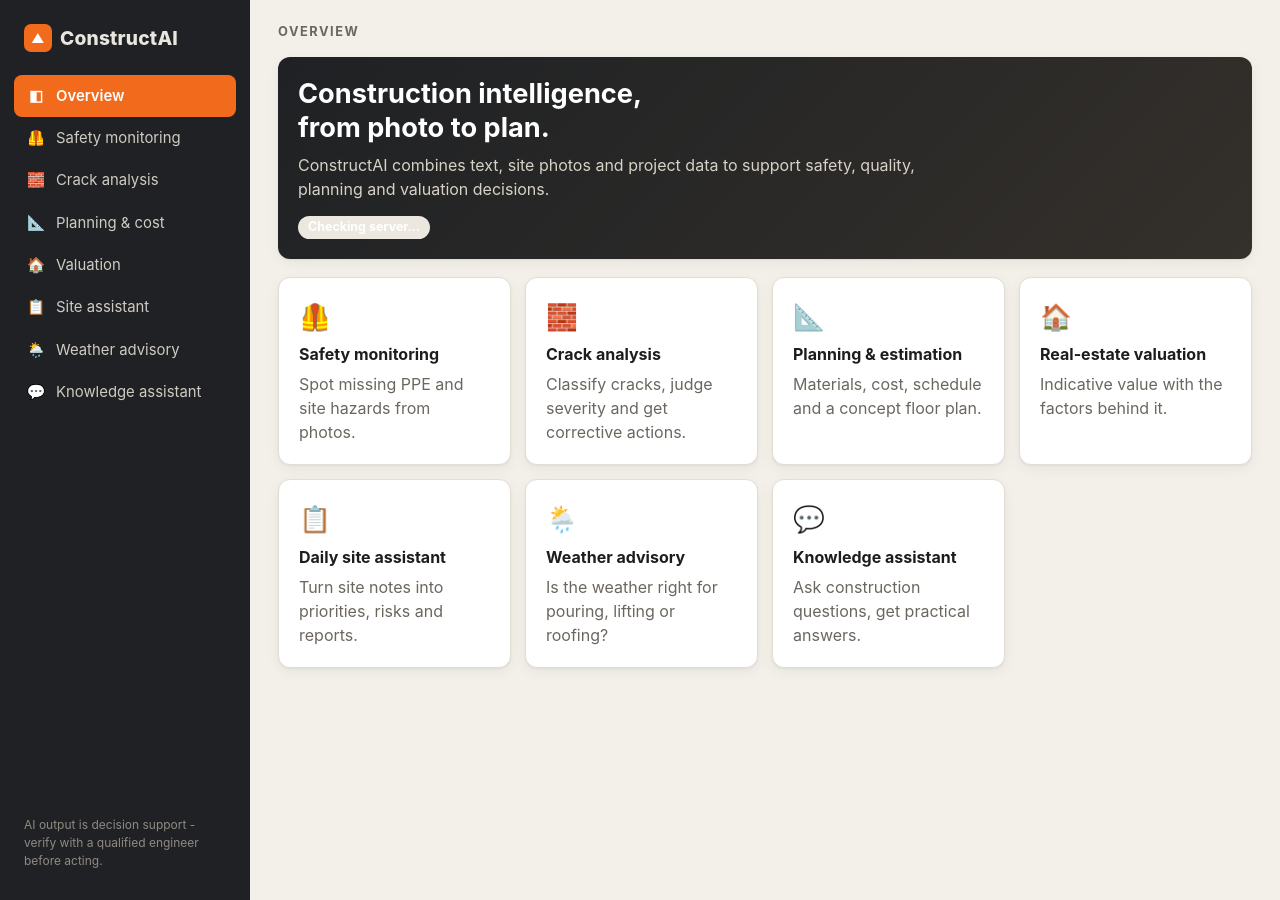
Test: crack module › requires a photo
Click the button "🧱 Crack analysis": x=125, y=181 top-left (14, 159), bottom-right (236, 202)
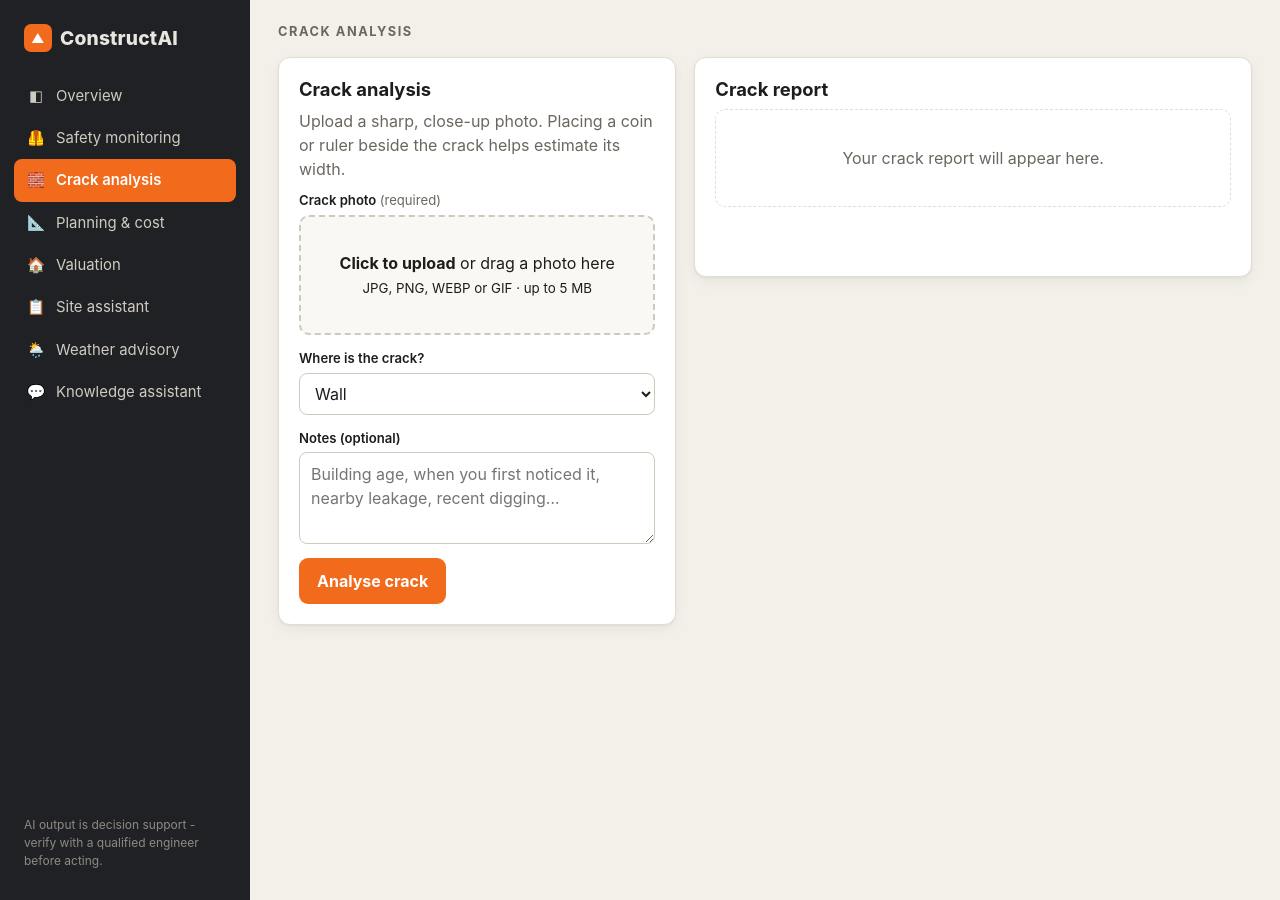
Click the button "Analyse crack": x=373, y=581 top-left (299, 558), bottom-right (446, 604)
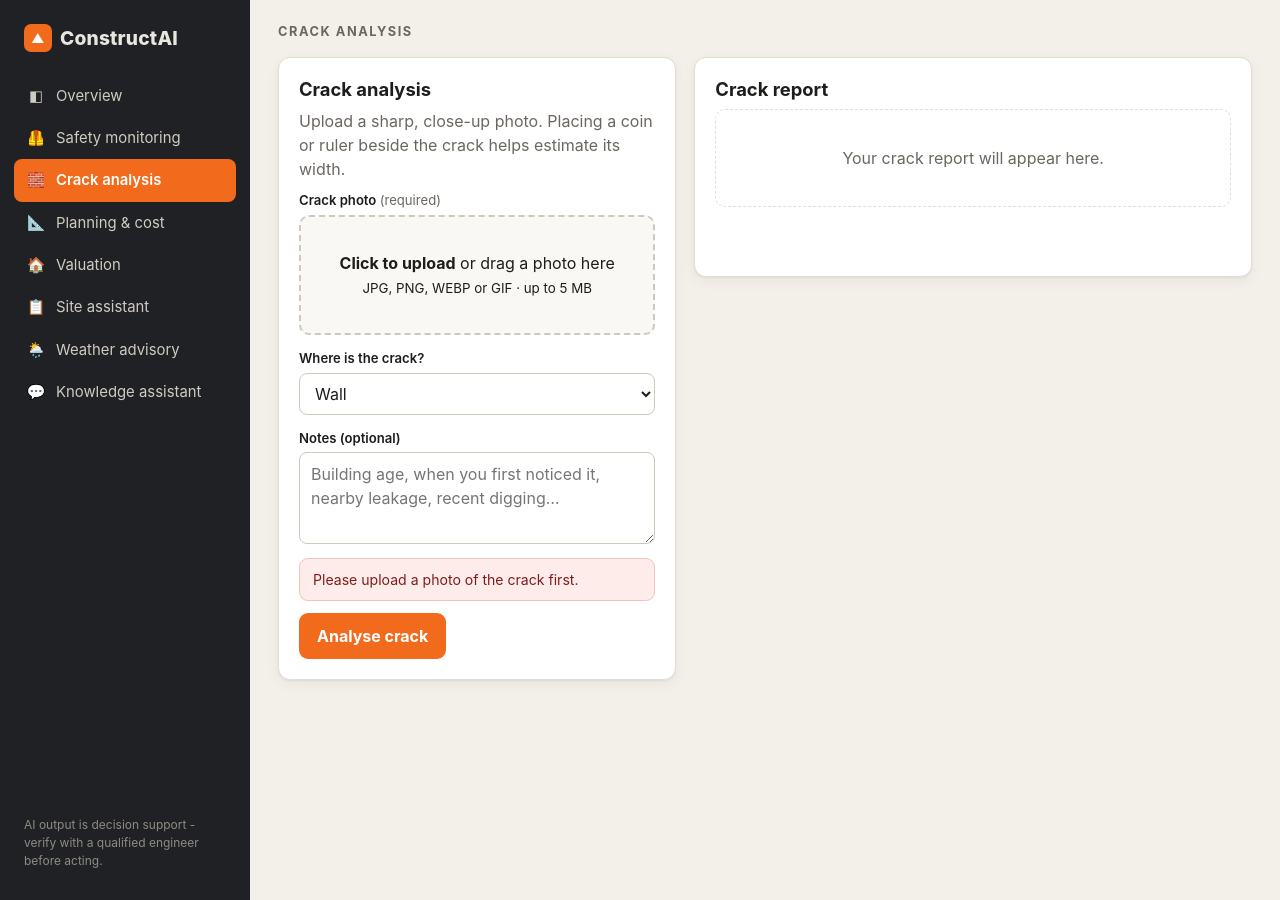
Expected: the text "Please upload a photo of the crack first." is shown, top-left (299, 558), bottom-right (655, 601)
